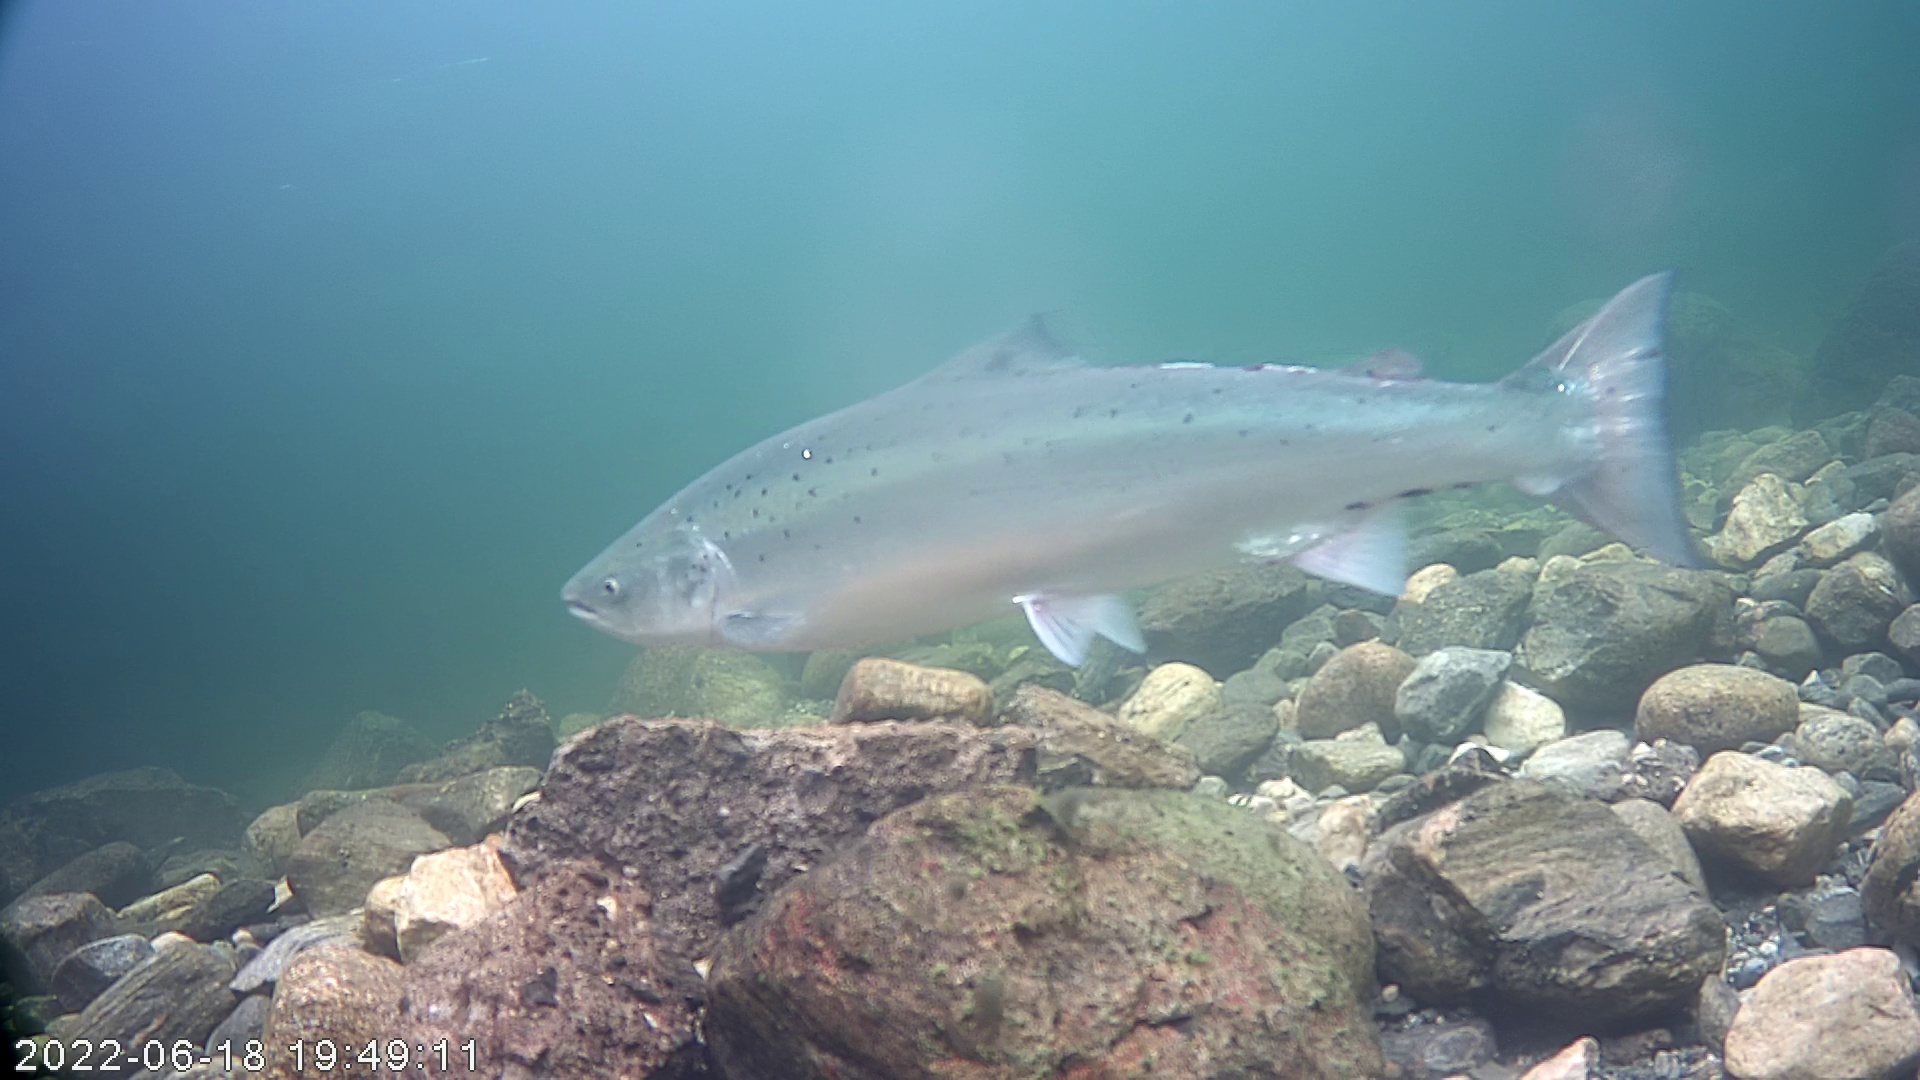salmon: (558, 268, 1695, 669)
